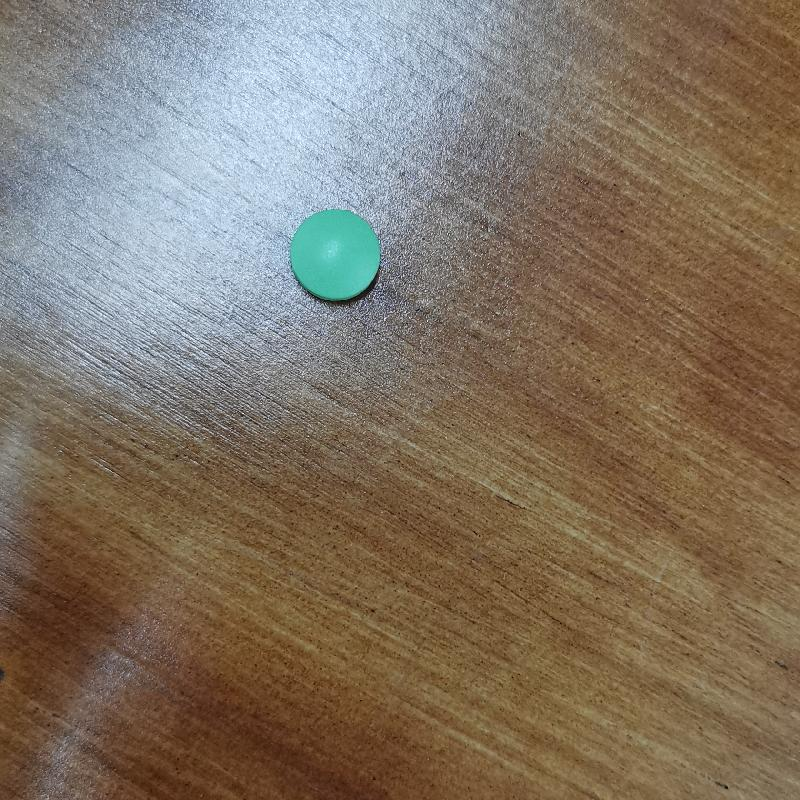pills: (277, 209, 393, 308)
